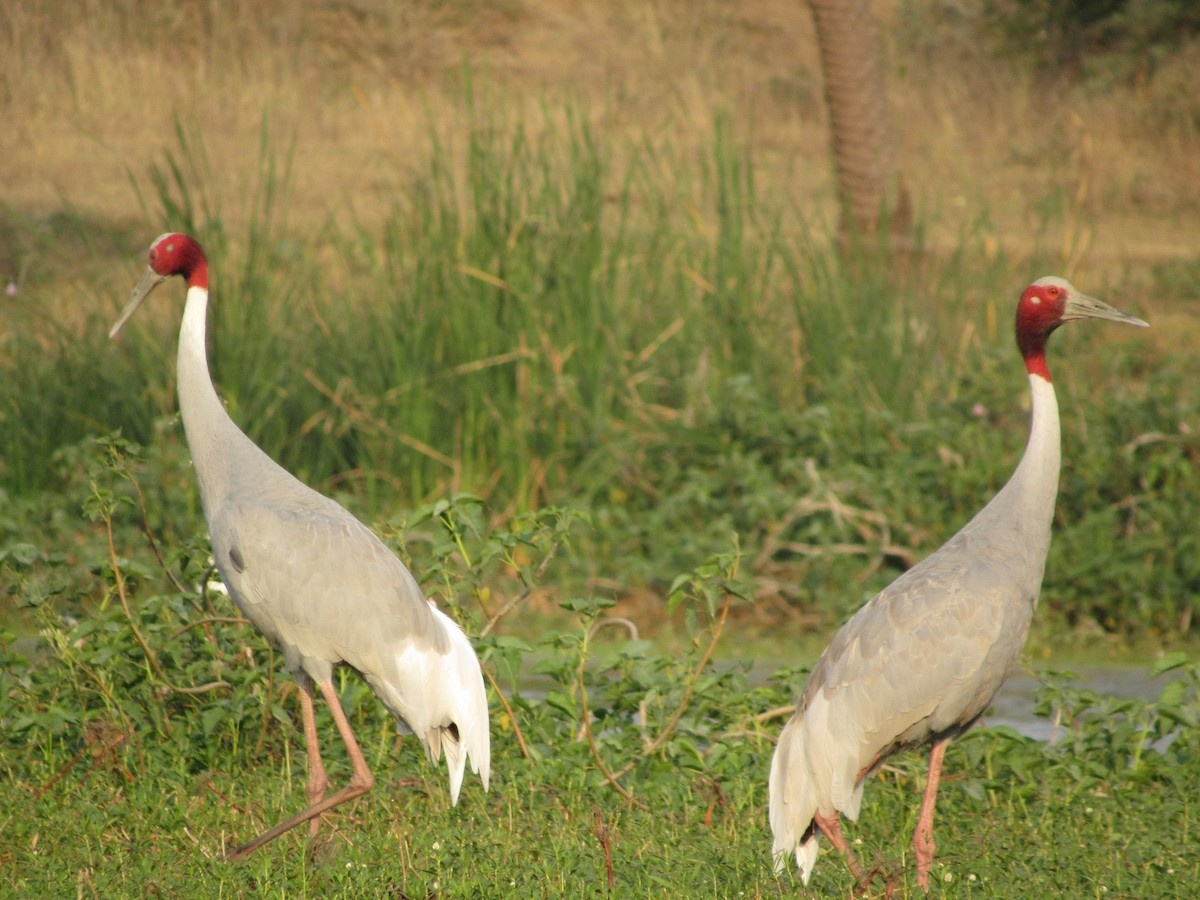crane: (103, 225, 493, 862), (767, 269, 1150, 859)
